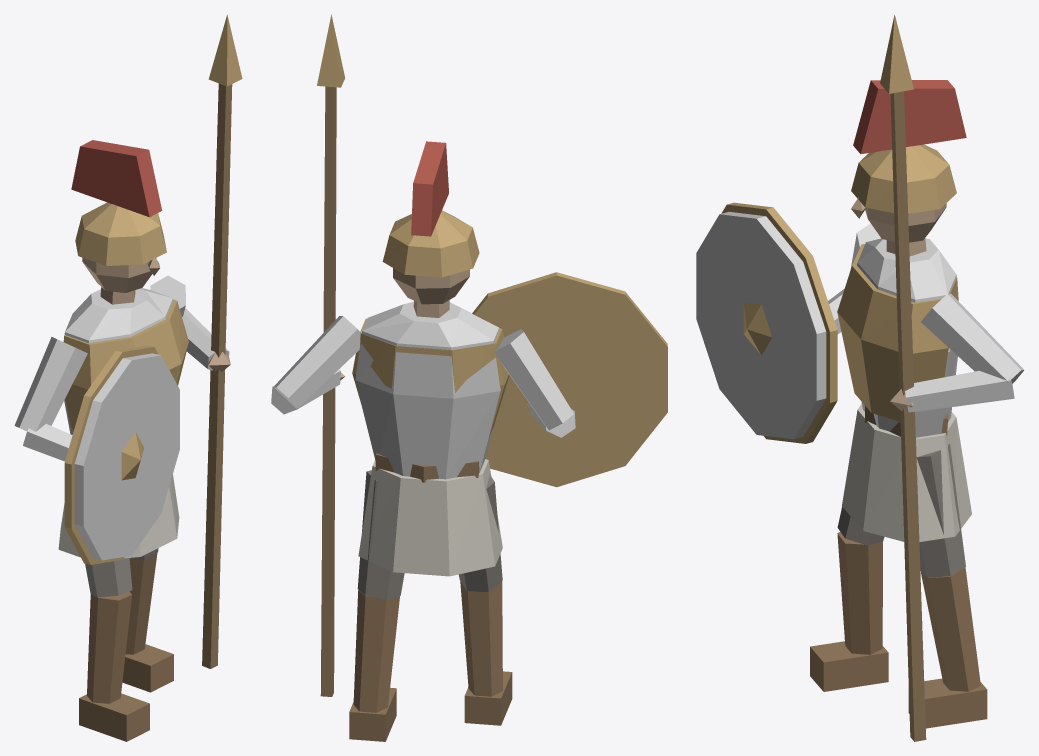
Rendered from hoplite.glb.
The picture shows the model from 3 angles, left to right: view 1: azimuth 30°, elevation 25°; view 2: azimuth 150°, elevation 25°; view 3: azimuth 270°, elevation 25°; orthographic projection. The views are drawn at different scales.
Parts seen in each view (by area): view 1: LOD0; view 2: LOD0; view 3: LOD0.
Part boxes in pixels (box(x1,y1,x2,y2)): LOD0: box(14, 14, 242, 741); LOD0: box(271, 14, 667, 741); LOD0: box(696, 15, 1023, 741).
Size of what is drawn, in the model's own units: 0.5273 by 1.3 by 0.5226.
